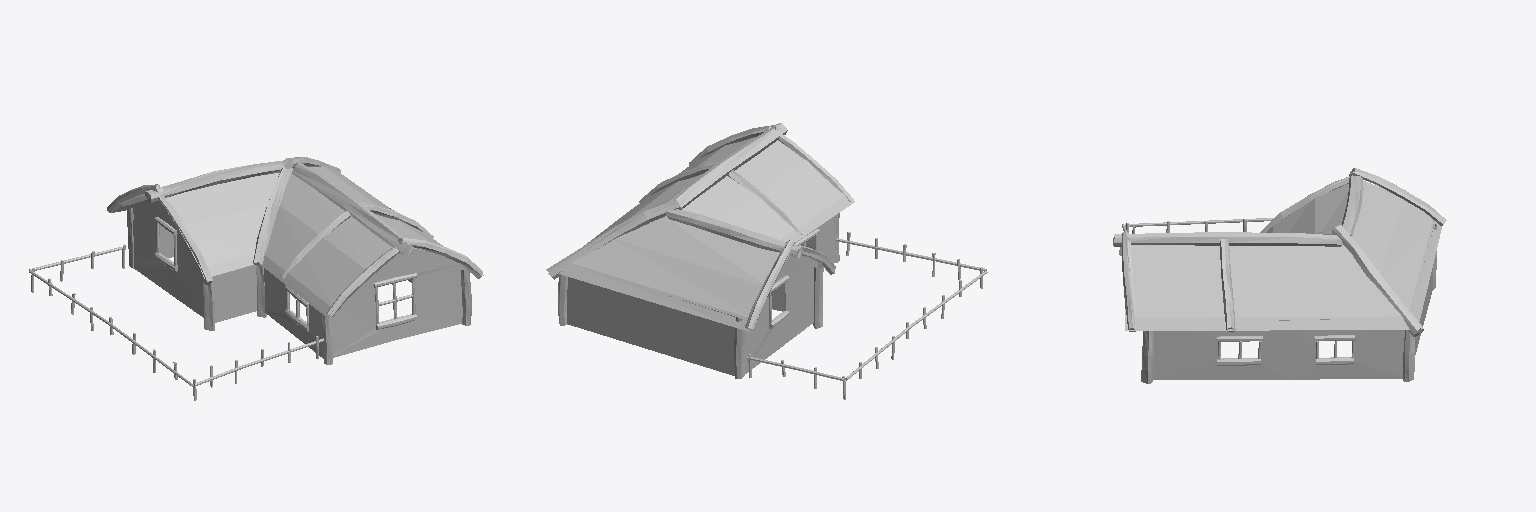
Rendered from School.obj.
3 renders of one model, left to right at view 1: azimuth 30°, elevation 25°; view 2: azimuth 150°, elevation 25°; view 3: azimuth 270°, elevation 25°, orthographic.
Parts seen in each view (by area): view 1: Cube_Cube.015; view 2: Cube_Cube.015; view 3: Cube_Cube.015.
Part boxes in pixels (bbox=[...]): Cube_Cube.015: bbox=[29, 157, 483, 400]; Cube_Cube.015: bbox=[546, 123, 987, 399]; Cube_Cube.015: bbox=[1113, 168, 1446, 383].
Bounding box in the file's own units: 19.71 × 7.47 × 18.59.